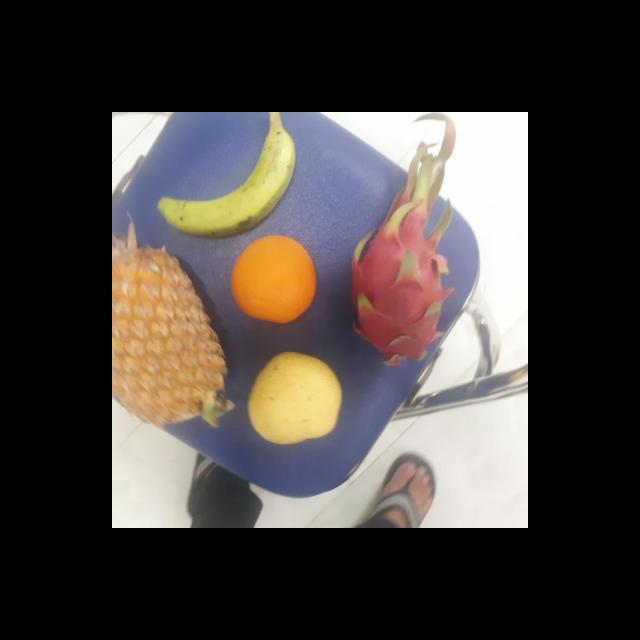banana: (164, 118, 292, 237)
guava: (242, 353, 342, 442)
pear: (244, 352, 342, 446), (228, 234, 320, 322)
pitaya: (341, 194, 476, 366)
